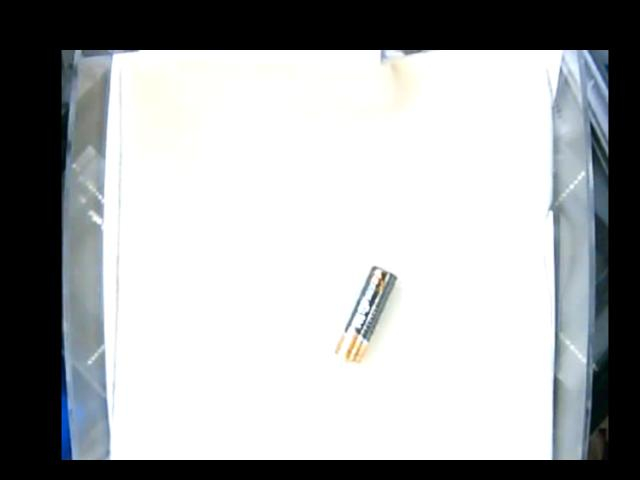Battery: (334, 265, 397, 363)
